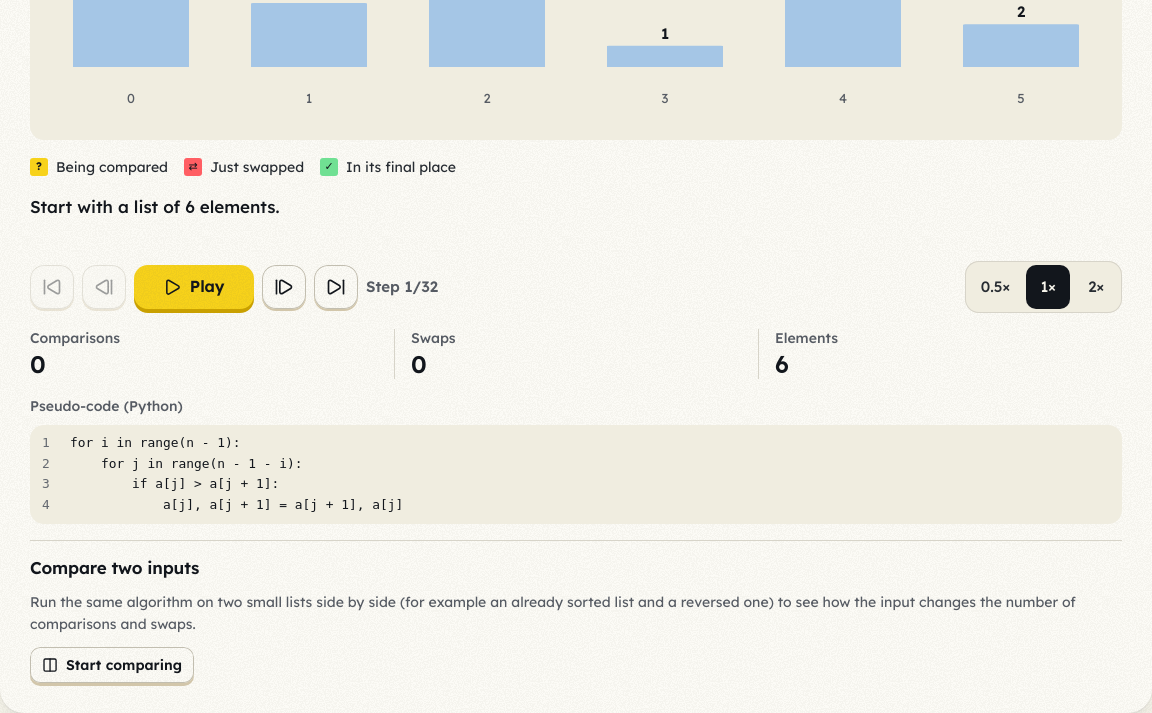
Test case: compare two inputs (spec §10.3) › runs a sorted and a reversed list side by side with counters and a verdict
This screenshot has width=1152, height=713.
(page scrolled)
Click the button "Start comparing" at (112, 665), box [30,647,194,683]
(page scrolled)
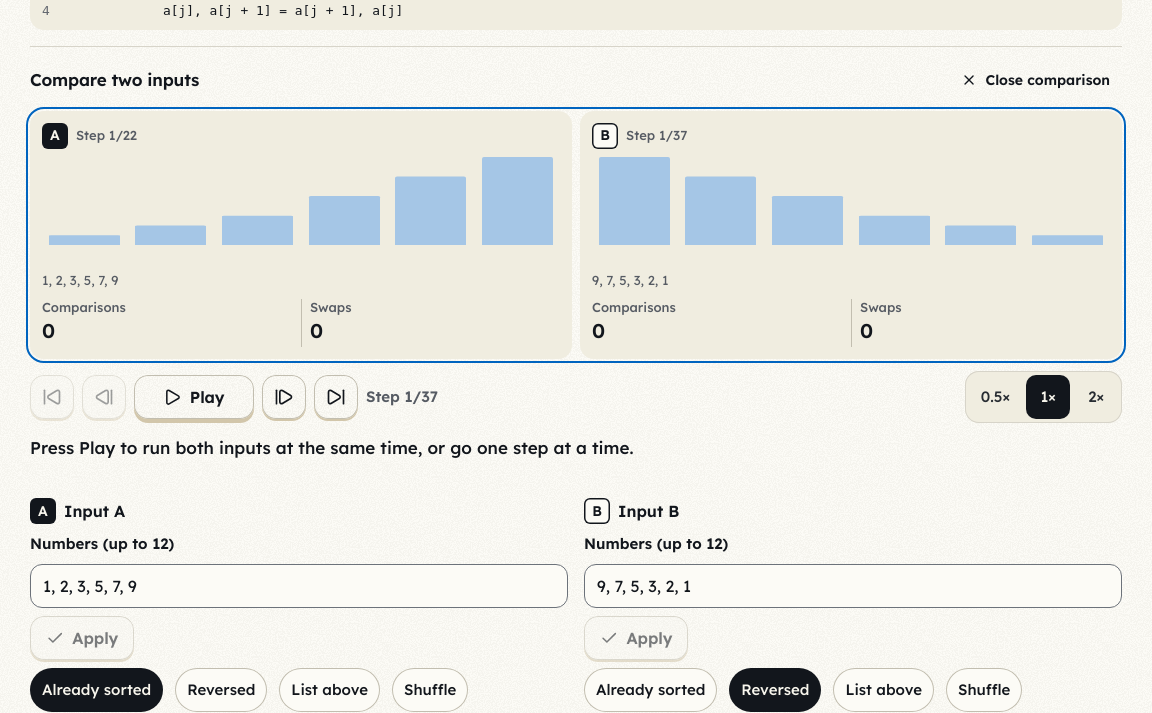
Result: the button "Already sorted" below "Input A" is shown at [30,668,163,712]
Result: the button "Reversed" below "Input B" is shown at [729,668,821,712]
Result: the text with class "alg-msg" shows "Press Play" at [30,437,633,458]
Click the button named "Last step" at (336, 397), box [314,375,358,419]
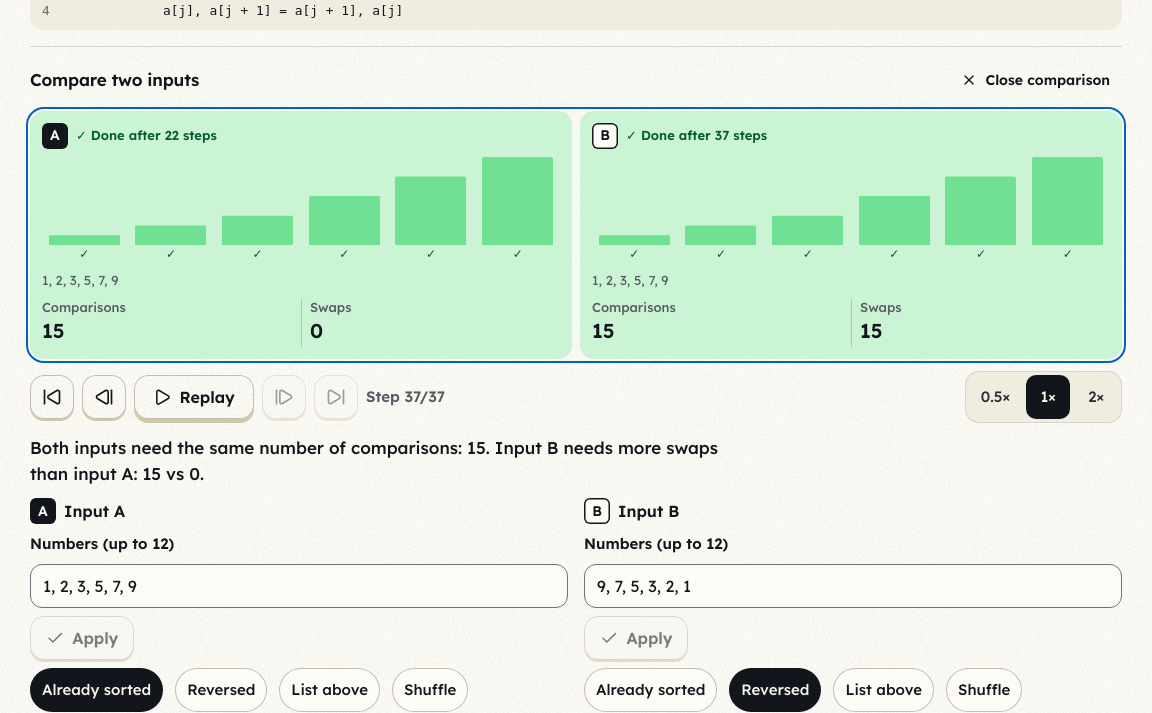
Result: the text with class "alg-msg" shows "Both inputs need the same number of comparisons: 15. Input B needs more swaps than input A: 15 vs 0." at [30,437,718,484]
Result: the element with class "alg-cmp-lane" shows "Done after 22 steps" at [91,127,217,143]
Result: the element with class "alg-cmp-lane" shows "Done after 37 steps" at [641,127,767,143]
